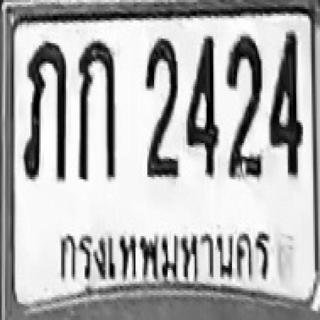A01: (75, 38, 116, 180)
A32: (21, 40, 67, 180), (21, 51, 67, 180), (21, 73, 67, 179)
N02: (225, 33, 262, 167), (143, 37, 178, 172), (143, 44, 178, 178), (225, 53, 262, 178)
N04: (268, 29, 303, 177), (185, 34, 218, 177)
P04: (58, 218, 273, 292)
